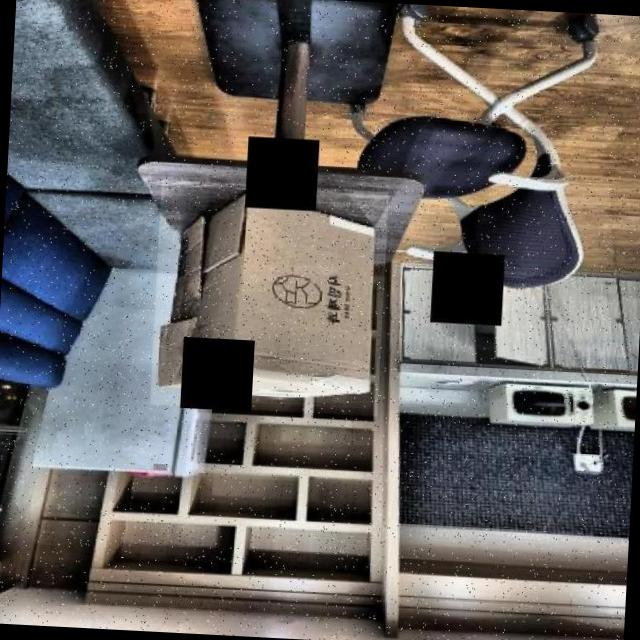box: (150, 180, 389, 417)
